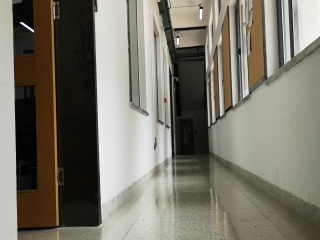room: (8, 3, 107, 230)
